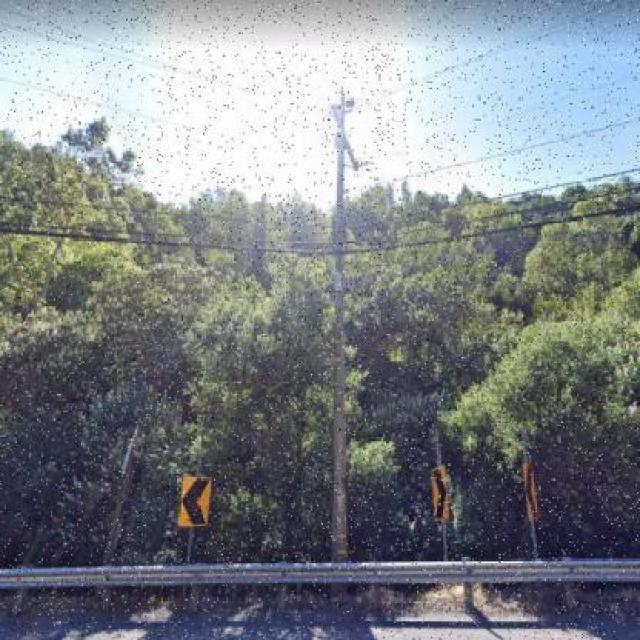pole: (298, 52, 370, 599)
